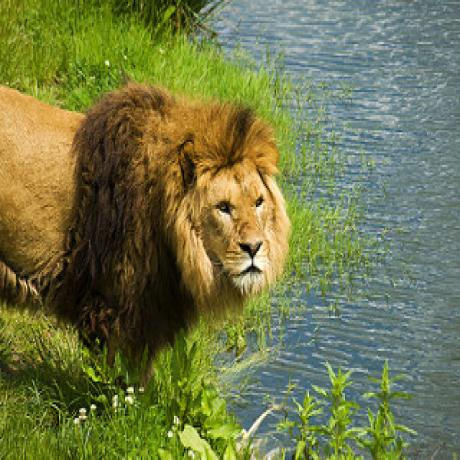Lion: (0, 68, 288, 362)
